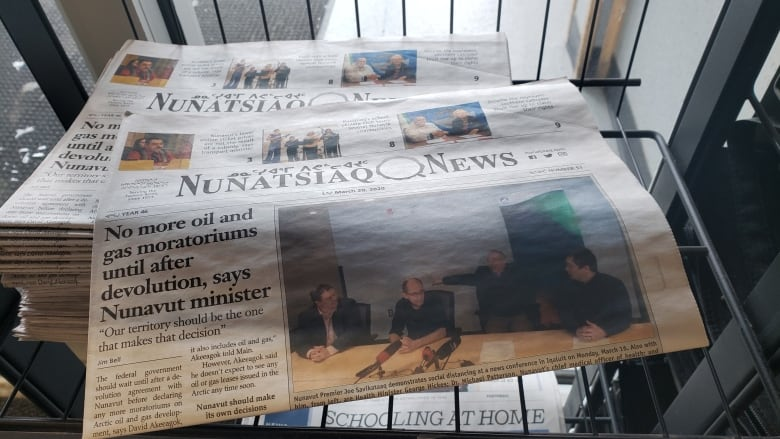news_paper: (62, 69, 734, 439), (8, 1, 604, 383)
